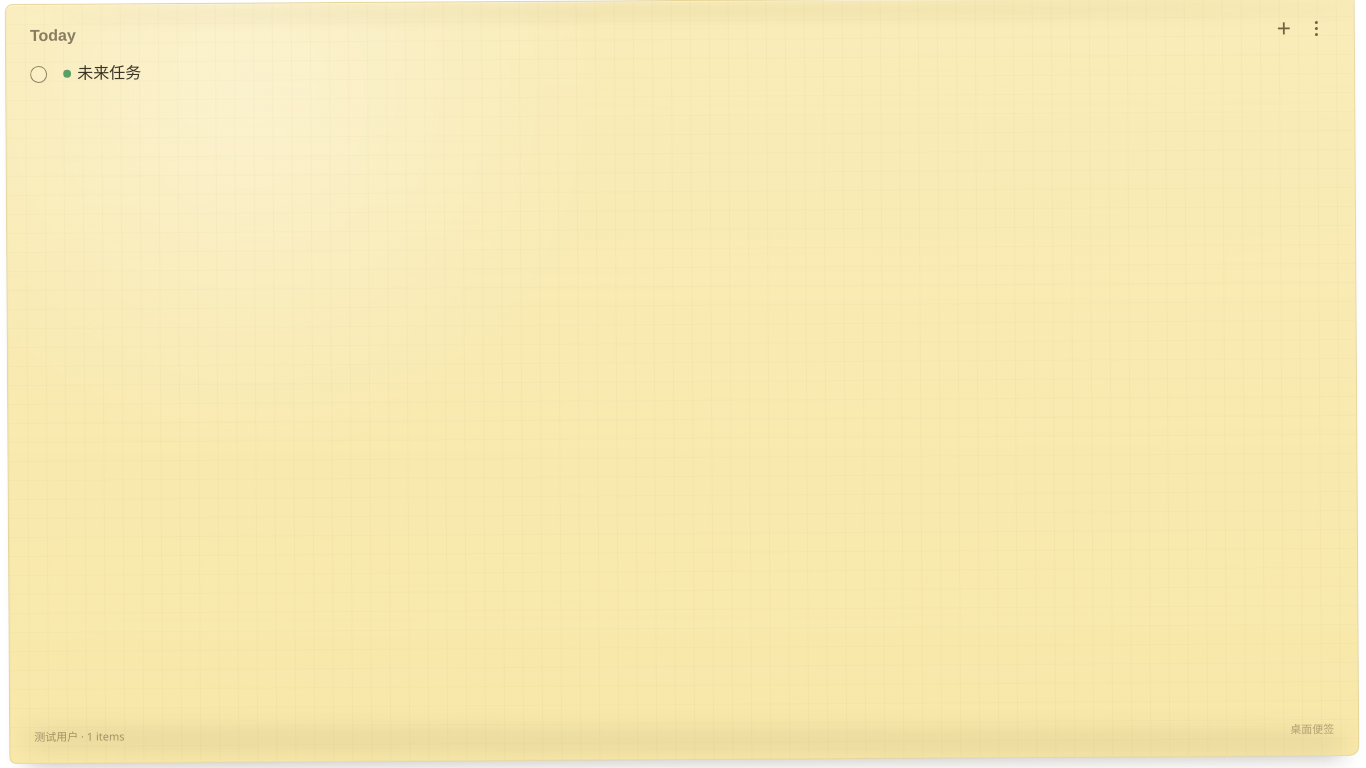
Test: 桌面便签核心交互 › 未来任务到达执行时间自动进行中，挂起激活后变更为待完成
Click the button with class "task-main": (109, 72) [63,55,1330,90]
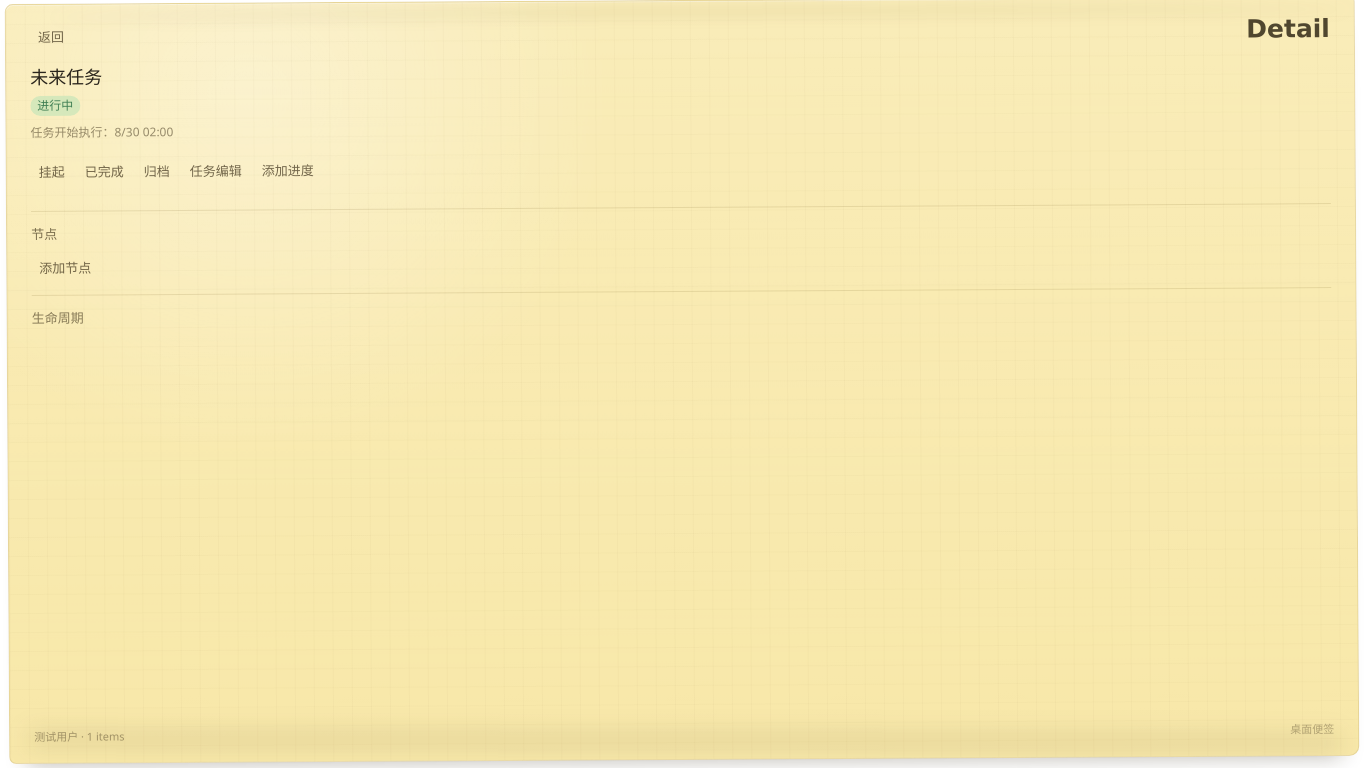
Result: the text with class "status-chip" reads "进行中" at [37,97,73,114]
Click the button "挂起": (52, 172) [31,156,73,187]
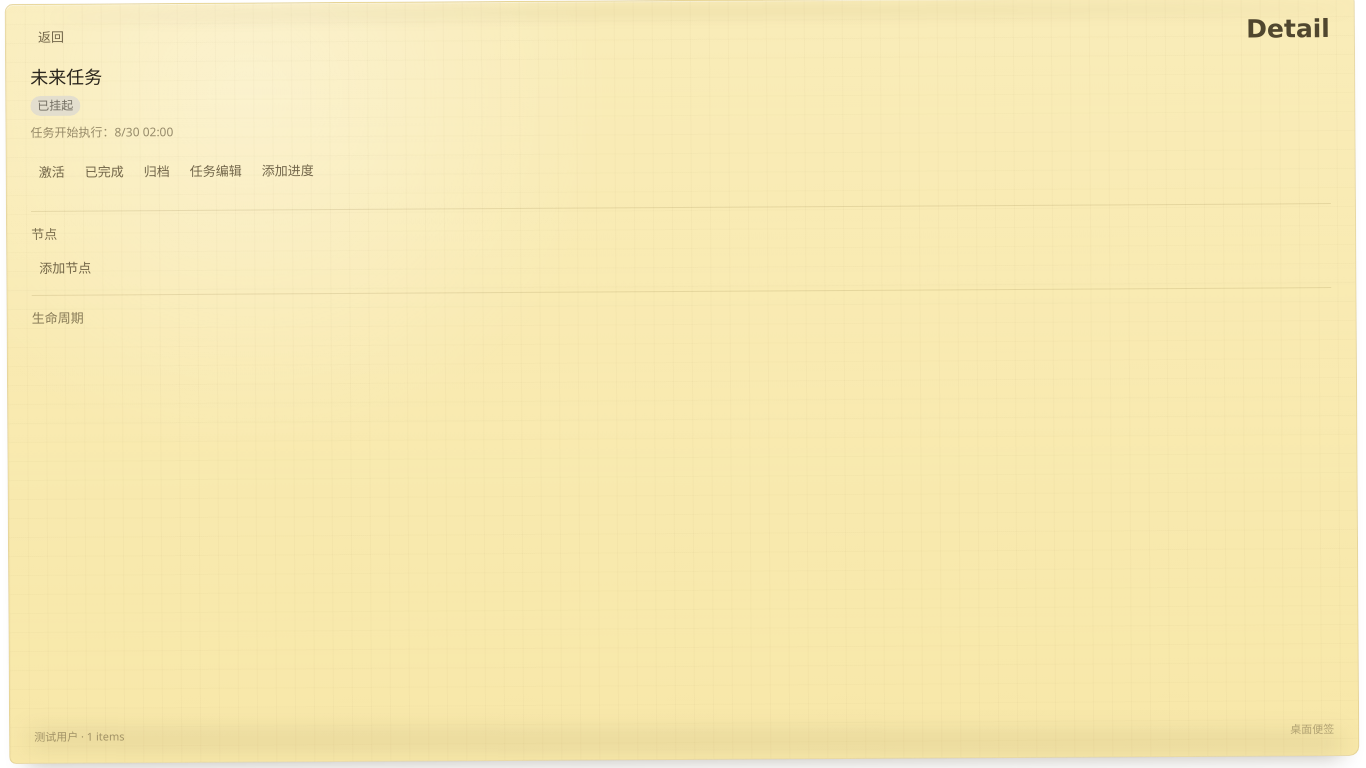
Click the button "激活": (52, 172) [31,156,73,187]
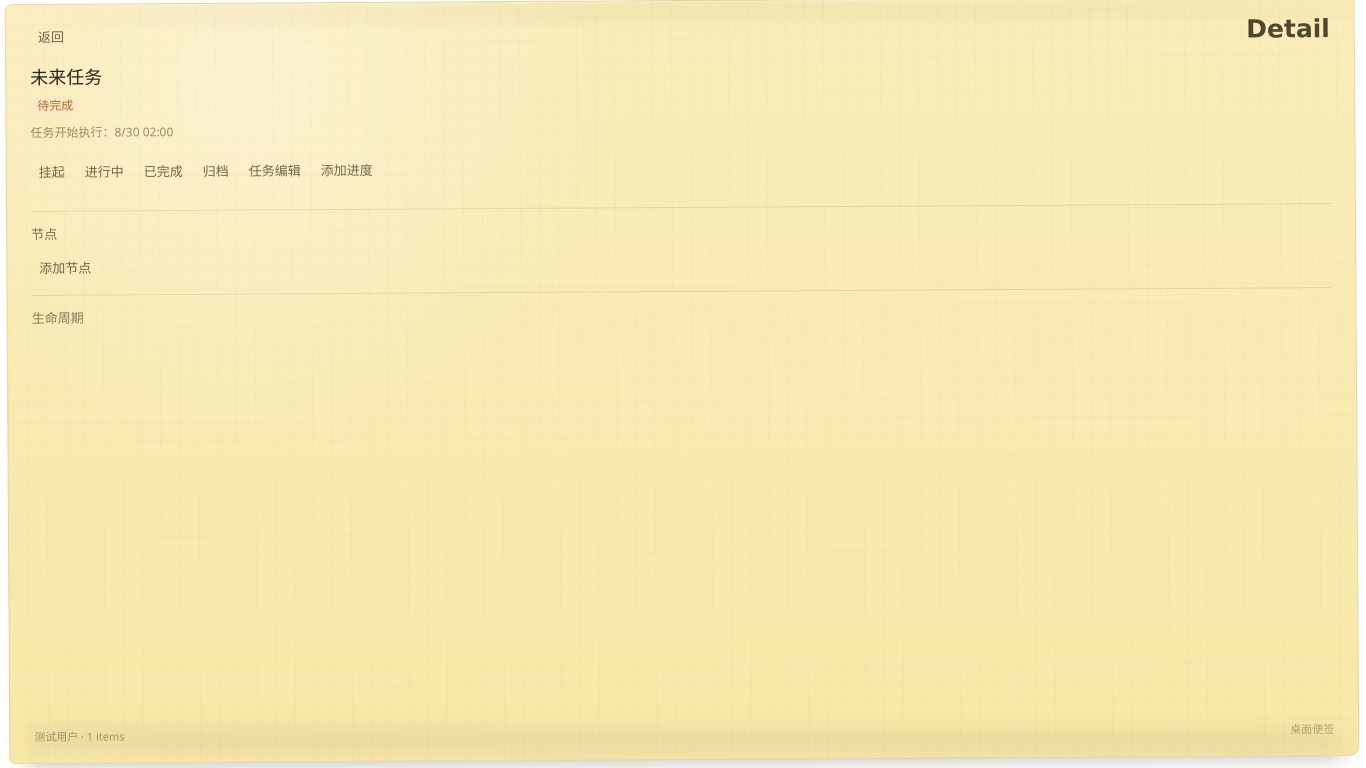
Result: the text with class "status-chip" reads "待完成" at [37,97,73,114]
